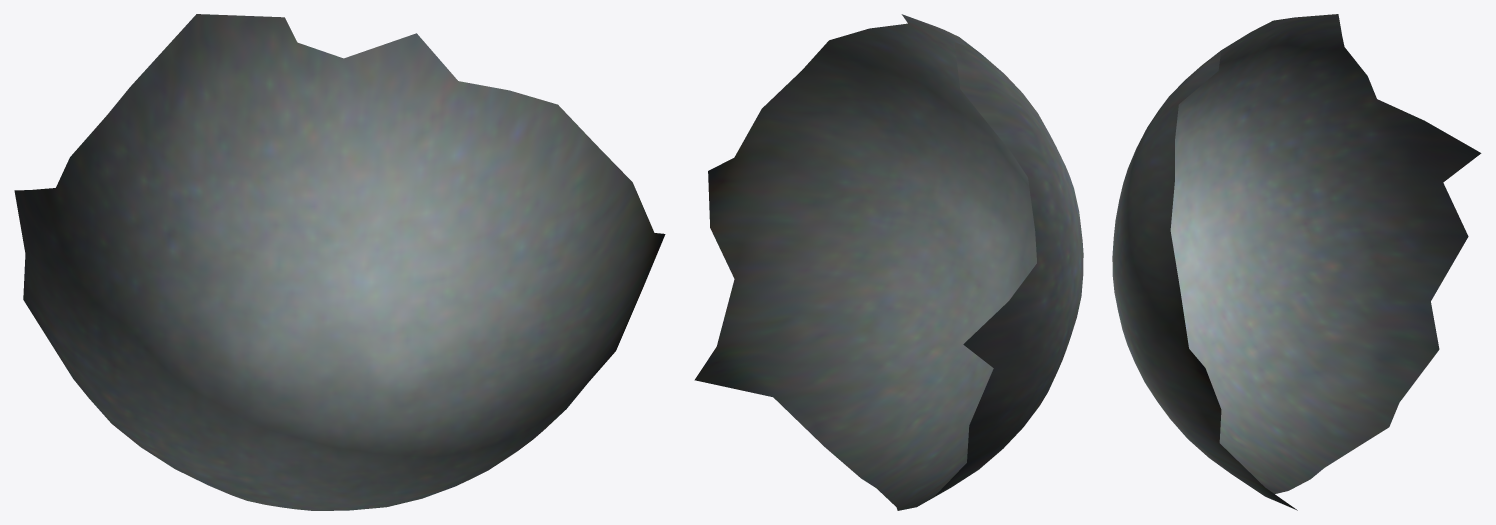
Rendered from Sphere_distfromfocus_p40_focuc_210.000001.obj.
3 renders of one model, left to right at view 1: azimuth 30°, elevation 25°; view 2: azimuth 150°, elevation 25°; view 3: azimuth 270°, elevation 25°, orthographic. The views are drawn at different scales.
Size of the model in its own units: 71.3 by 70.85 by 55.92.
Materials: 1 (1 with a texture image).
